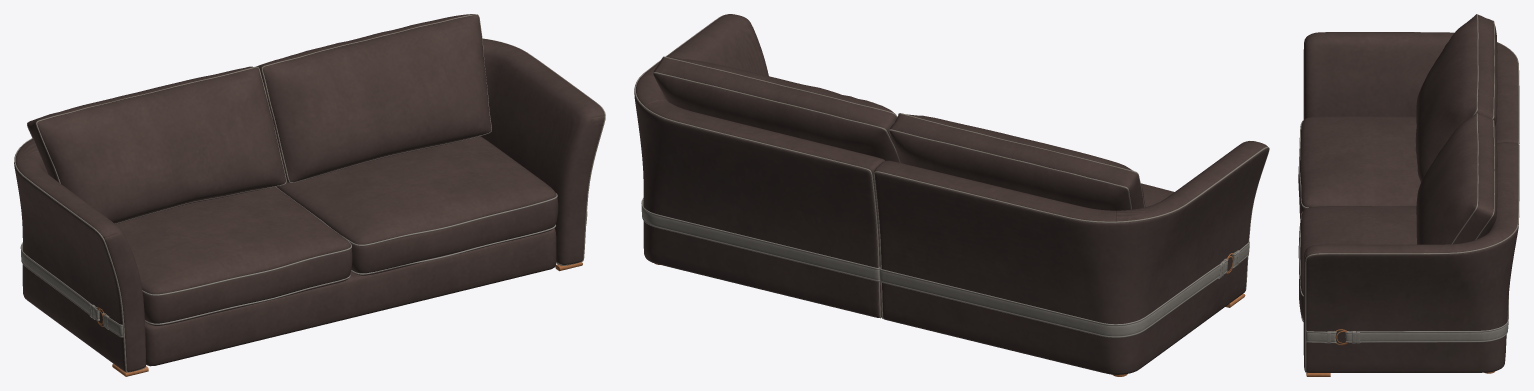
File: obj_karl_d3e9bc.glb
3 views of the same model, side by side, from view 1: azimuth 30°, elevation 25°; view 2: azimuth 150°, elevation 25°; view 3: azimuth 270°, elevation 25° (orthographic). The views are drawn at different scales.
Parts seen in each view (by area): view 1: obj_karl_d3e9bc; view 2: obj_karl_d3e9bc; view 3: obj_karl_d3e9bc.
Boxes of the visible parts, left/top/right/bottom form: obj_karl_d3e9bc: left=14, top=14, right=605, bottom=376; obj_karl_d3e9bc: left=634, top=14, right=1269, bottom=376; obj_karl_d3e9bc: left=1298, top=14, right=1519, bottom=376.
Size of the model in its own units: 1.6 by 0.5631 by 0.6749.
1 material, 1 textured.
